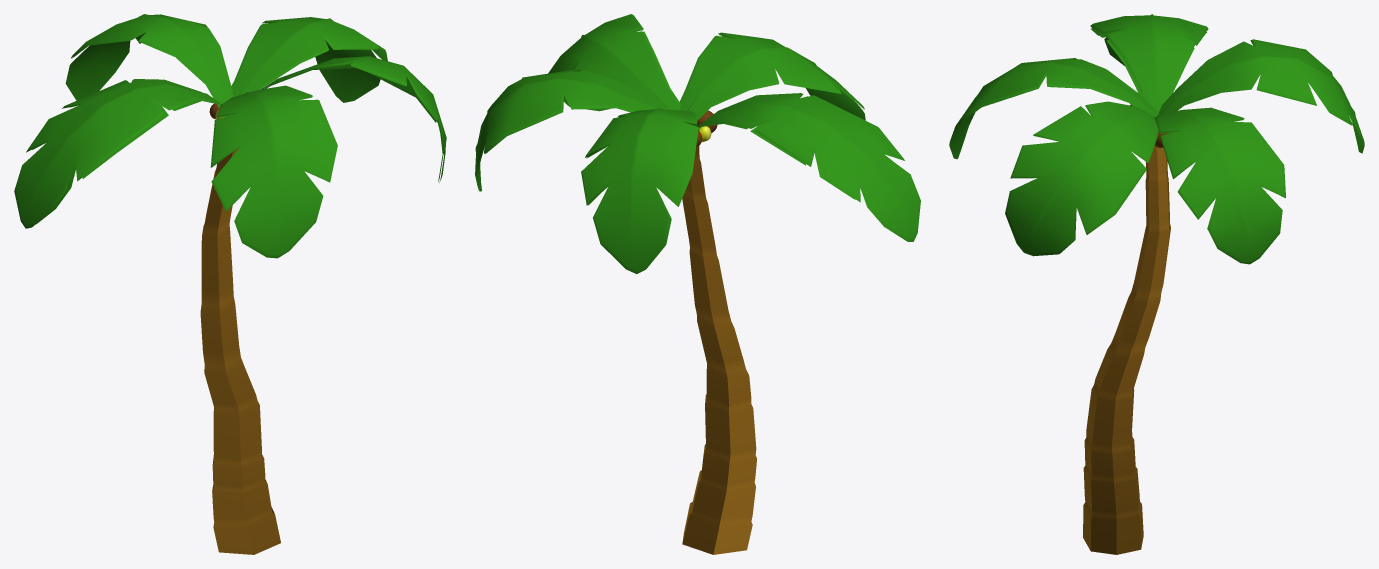
File: new_kiwi_apple.fbx
3 views of the same model, side by side, from view 1: azimuth 30°, elevation 25°; view 2: azimuth 150°, elevation 25°; view 3: azimuth 270°, elevation 25° (orthographic). The views are drawn at different scales.
Visible parts, largest first — view 1: polySurface26; view 2: polySurface26; view 3: polySurface26.
Boxes of the visible parts, box(x1,y1,x2,y2) form: polySurface26: box(14, 14, 446, 554); polySurface26: box(475, 14, 920, 554); polySurface26: box(949, 14, 1364, 554).
Bounding box in the file's own units: 280 × 326 × 253.
